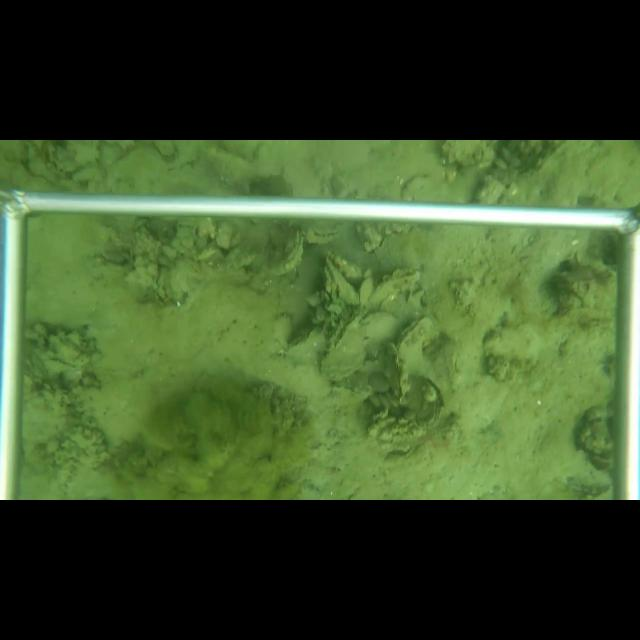Oyster-Closed: (320, 311, 366, 382), (394, 314, 441, 380), (262, 227, 306, 277), (281, 322, 330, 363), (365, 310, 403, 359), (328, 257, 361, 306), (387, 339, 408, 410), (415, 382, 443, 433), (305, 221, 350, 246), (355, 223, 388, 257), (321, 266, 335, 296)
Oyster-Open: (19, 143, 59, 190), (89, 250, 134, 272), (42, 356, 78, 375)
